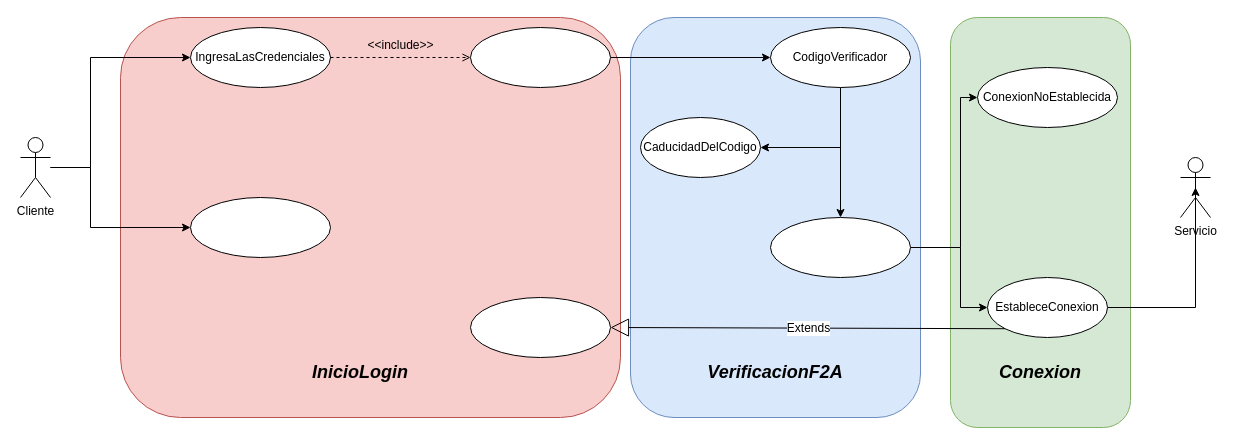
The diagram is 1234 pixels wide and 445 high, and some of its shapes have lost their labels. Each missing label, with the centre of its shape:
"CerrarSesion" belongs at (540,327).
"RegistrarUsuario" belongs at (260,227).
"ValidacionDeF2A" belongs at (840,247).
"ValidaLasCredenciales" belongs at (540,57).
